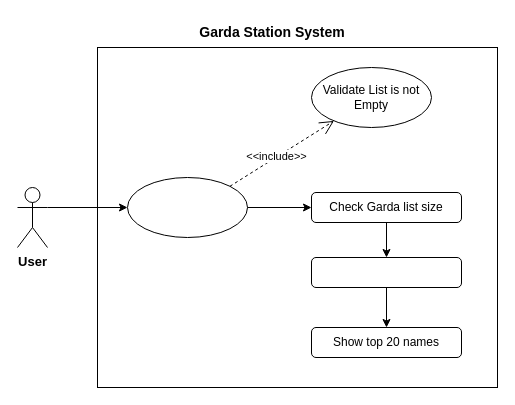
Image size: 515x405. Some labels were removed from this diagram. Each missing label, with the box of its shape:
Apply Bubble Sort: (310, 256, 462, 288)
Sort Gardaí Alphabetically: (126, 176, 248, 238)
